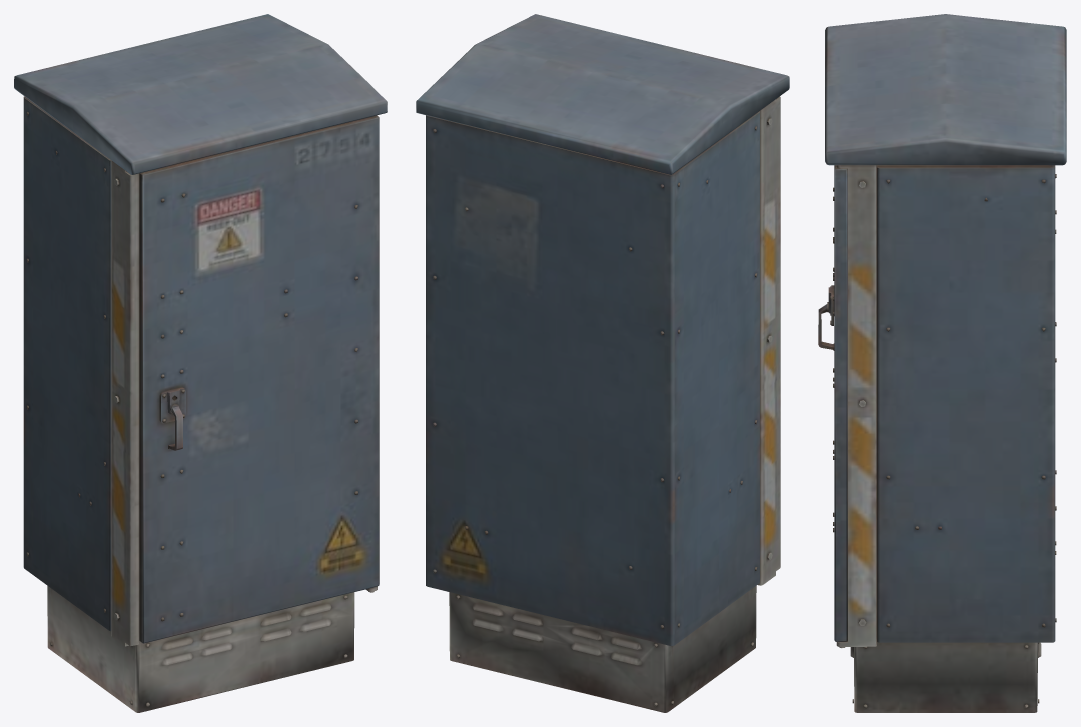
The model's file is utility_box_01.glb.
3 renders of one model, left to right at view 1: azimuth 30°, elevation 25°; view 2: azimuth 150°, elevation 25°; view 3: azimuth 270°, elevation 25°, orthographic.
Visible parts, largest first — view 1: utility_box_01_box; view 2: utility_box_01_box; view 3: utility_box_01_box.
Part boxes in pixels (<box>): utility_box_01_box: <box>14,14,387,712</box>; utility_box_01_box: <box>416,14,789,712</box>; utility_box_01_box: <box>818,14,1066,712</box>.
Bounding box in the file's own units: 0.52 × 1.12 × 0.432.
Materials: 1 (1 with a texture image).
